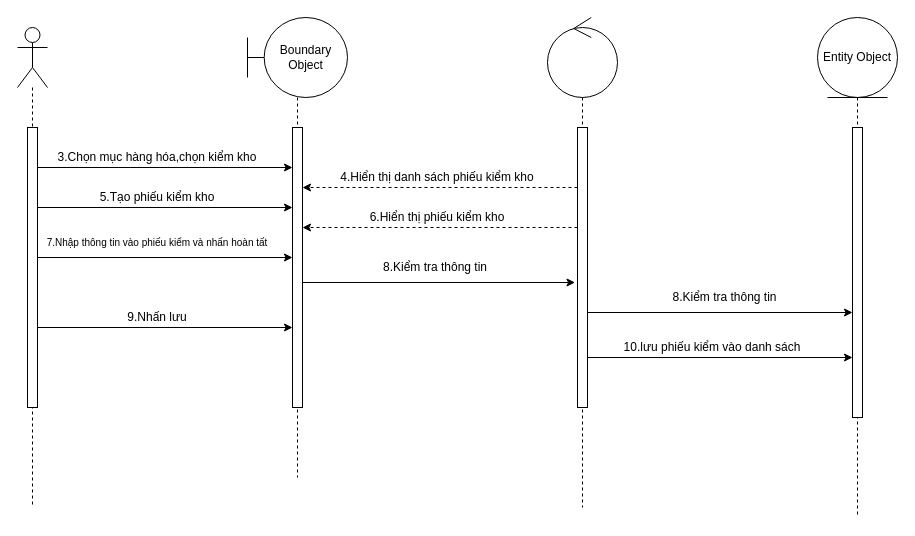
This 915x536 diagram has some shape labels left out. Here are the shapes that lost their labels. From the top down, the centre of each, then its label:
pixel 32 57: Actor
pixel 582 57: Control Object
